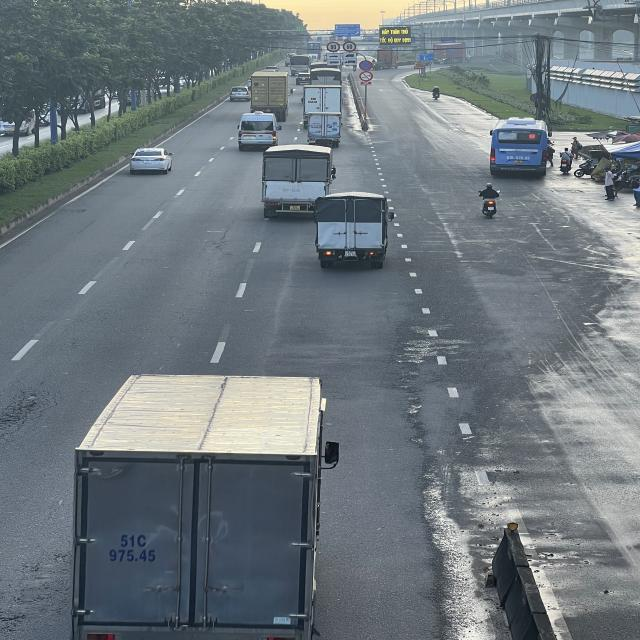car: (130, 146, 172, 172)
coach: (488, 117, 553, 178)
container: (252, 70, 290, 121)
truck: (68, 377, 332, 640), (316, 191, 393, 268), (263, 143, 337, 215), (301, 85, 343, 128), (304, 113, 345, 144), (290, 55, 310, 76)
van: (237, 112, 280, 151)
